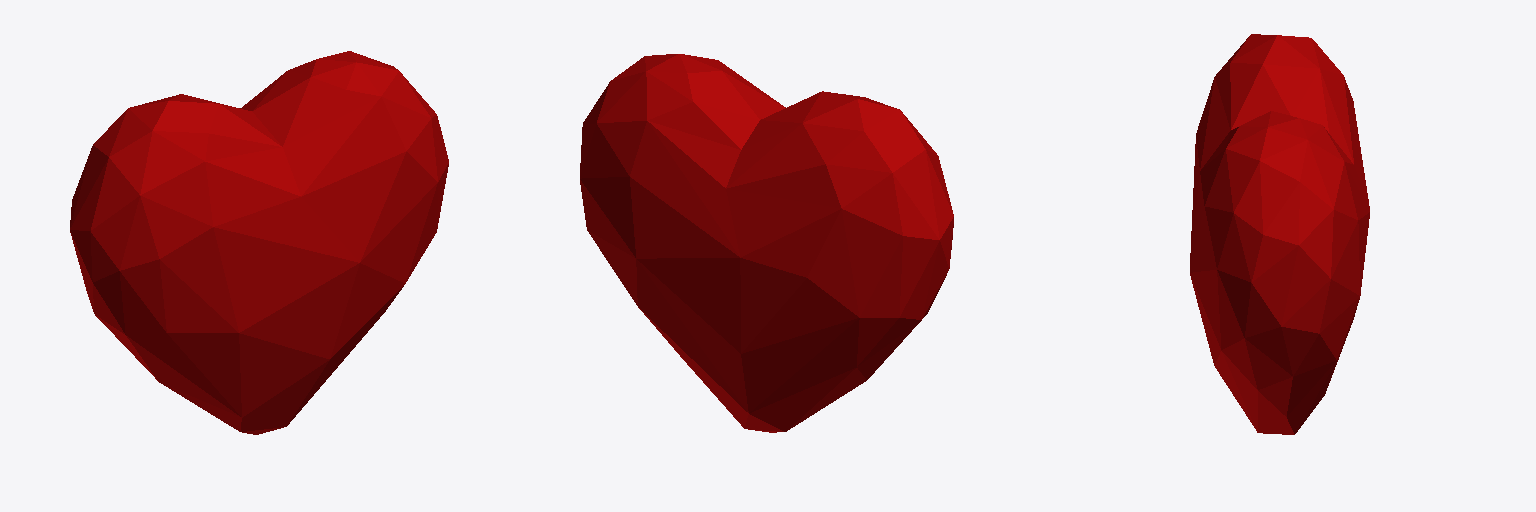
Rendered from Heart.obj.
3 views of the same model, side by side, from view 1: azimuth 30°, elevation 25°; view 2: azimuth 150°, elevation 25°; view 3: azimuth 270°, elevation 25° (orthographic).
Visible parts, largest first — view 1: 12190_Heart_v1_L3; view 2: 12190_Heart_v1_L3; view 3: 12190_Heart_v1_L3.
Boxes of the visible parts, x1=… form: 12190_Heart_v1_L3: x1=70, y1=51, x2=448, y2=434; 12190_Heart_v1_L3: x1=580, y1=54, x2=953, y2=432; 12190_Heart_v1_L3: x1=1190, y1=34, x2=1369, y2=434.
Bounding box in the file's own units: 2.12 × 2.01 × 0.9271.